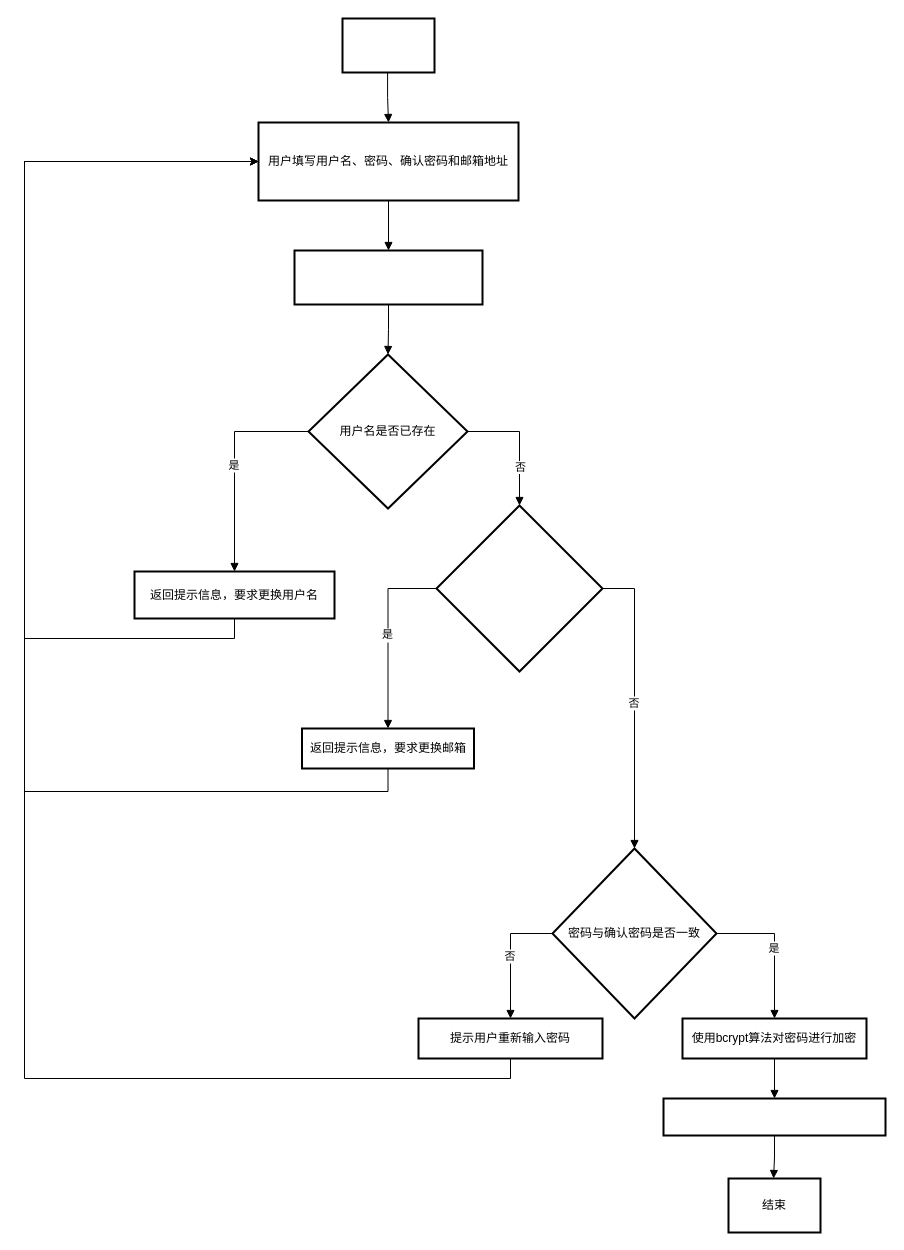
Image size: 904x1250. Some labels were removed from this diagram. Here are the shapes that lost their labels. From the top down, the centre of each, then its label:
pixel 388 45: 开始
pixel 388 277: 后台接收注册信息
pixel 519 588: 邮箱是否已存在
pixel 774 1116: 将加密后的密码及用户信息存入Users表
